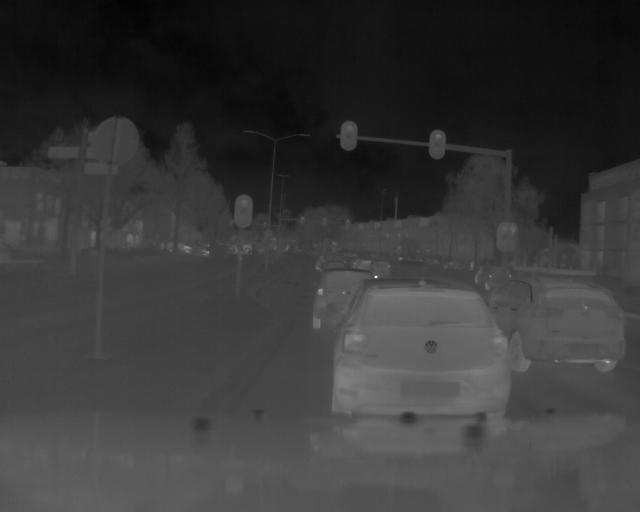car: (334, 281, 512, 424), (514, 269, 626, 370)
